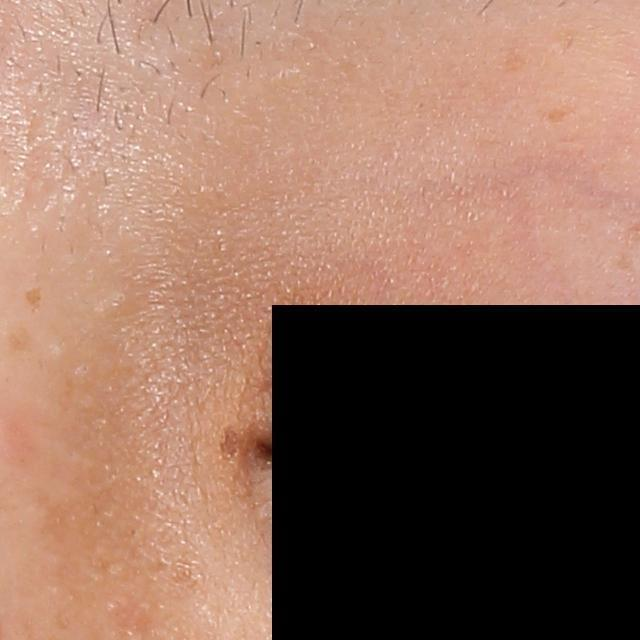melasma: (21, 284, 43, 317)
